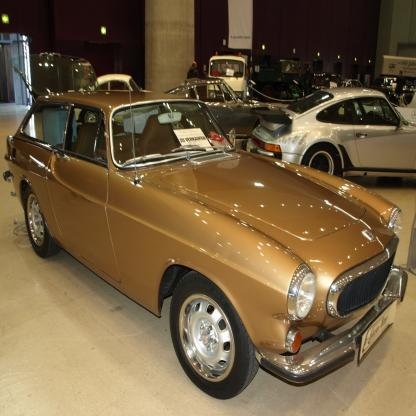Car: (3, 52, 416, 402)
